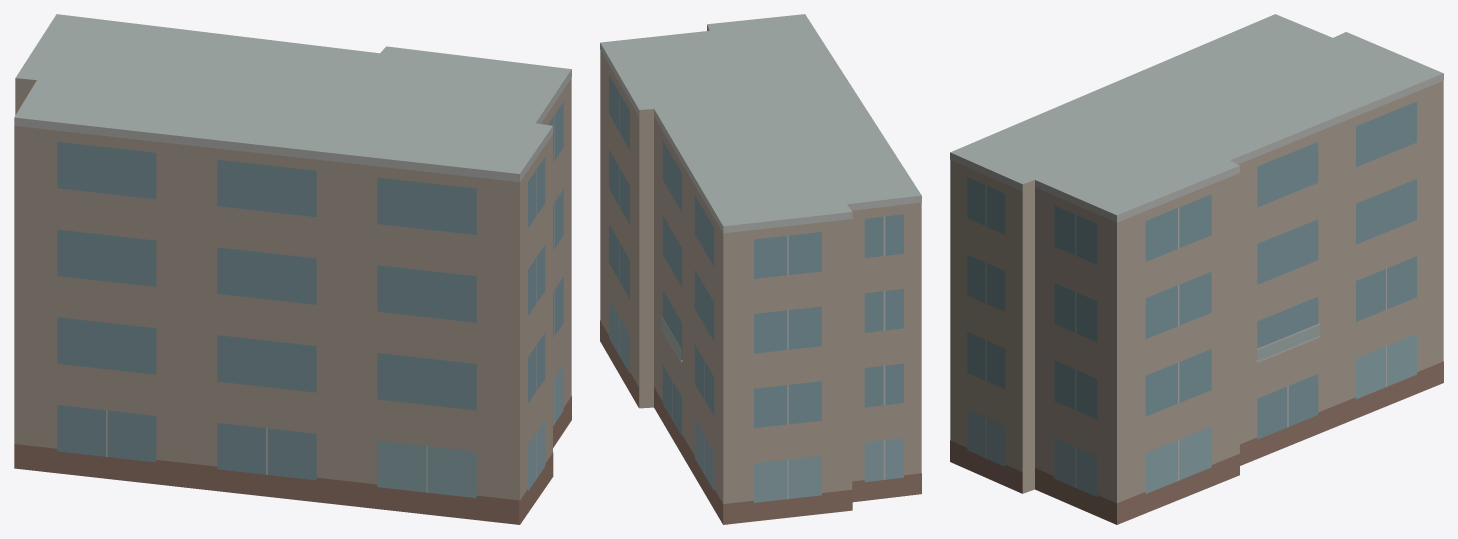
File: survey-upis-32497620.glb
3 renders of one model, left to right at view 1: azimuth 30°, elevation 25°; view 2: azimuth 150°, elevation 25°; view 3: azimuth 270°, elevation 25°, orthographic. The views are drawn at different scales.
Parts seen in each view (by area): view 1: survey-upis-32497620.tmp; view 2: survey-upis-32497620.tmp; view 3: survey-upis-32497620.tmp.
Part boxes in pixels (x1,y1,x2,y2): survey-upis-32497620.tmp: (14, 14, 571, 524); survey-upis-32497620.tmp: (600, 14, 921, 524); survey-upis-32497620.tmp: (950, 14, 1443, 524).
Bounding box in the file's own units: 14.52 × 10.4 × 15.04.
